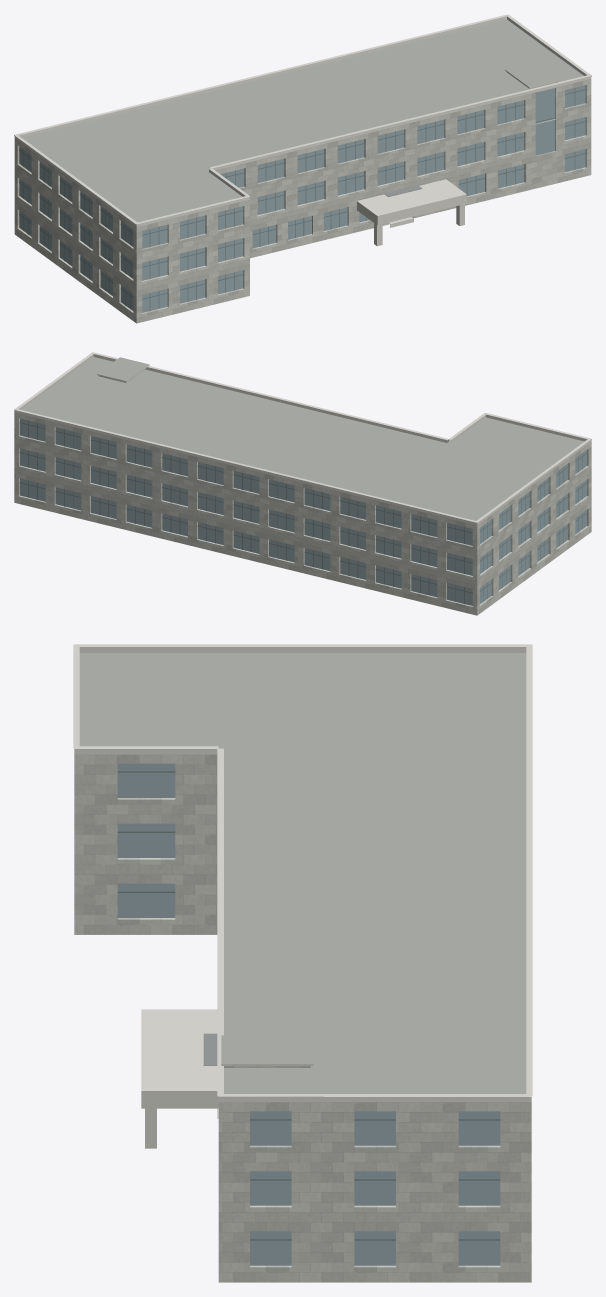
3 views of the same model, one above another, from view 1: azimuth 30°, elevation 25°; view 2: azimuth 150°, elevation 25°; view 3: azimuth 270°, elevation 25° (orthographic). The views are drawn at different scales.
Visible parts, largest first — view 1: b115951782__roof, b115951782__wall, b115951782__glass, b115951782__trim, b115951782__parapet, b115951782__frame; view 2: b115951782__roof, b115951782__wall, b115951782__glass, b115951782__frame, b115951782__trim, b115951782__parapet; view 3: b115951782__roof, b115951782__wall, b115951782__glass, b115951782__trim, b115951782__parapet, b115951782__frame.
Boxes of the visible parts, x1=… form: b115951782__roof: x1=17, y1=19, x2=590, y2=323; b115951782__wall: x1=14, y1=72, x2=591, y2=323; b115951782__glass: x1=19, y1=85, x2=585, y2=312; b115951782__trim: x1=14, y1=14, x2=591, y2=225; b115951782__parapet: x1=14, y1=16, x2=591, y2=227; b115951782__frame: x1=19, y1=88, x2=585, y2=310; b115951782__roof: x1=17, y1=357, x2=589, y2=615; b115951782__wall: x1=14, y1=367, x2=591, y2=615; b115951782__glass: x1=20, y1=418, x2=586, y2=605; b115951782__frame: x1=19, y1=420, x2=587, y2=604; b115951782__trim: x1=14, y1=352, x2=591, y2=523; b115951782__parapet: x1=14, y1=354, x2=591, y2=525; b115951782__roof: x1=74, y1=653, x2=531, y2=1282; b115951782__wall: x1=74, y1=754, x2=531, y2=1282; b115951782__glass: x1=117, y1=763, x2=500, y2=1265; b115951782__trim: x1=73, y1=644, x2=532, y2=1108; b115951782__parapet: x1=74, y1=647, x2=531, y2=1102; b115951782__frame: x1=117, y1=771, x2=500, y2=1240.
Bounding box in the file's own units: 58.18 × 11.85 × 24.97.
10 materials, 1 textured.
